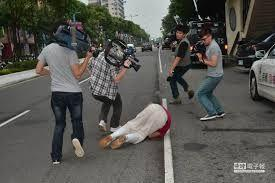Fall-Detected: (97, 88, 173, 151)
